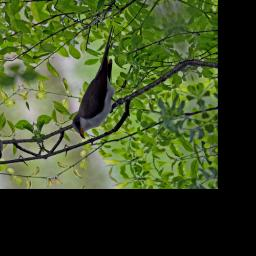Cuckoo: (44, 26, 150, 142)
